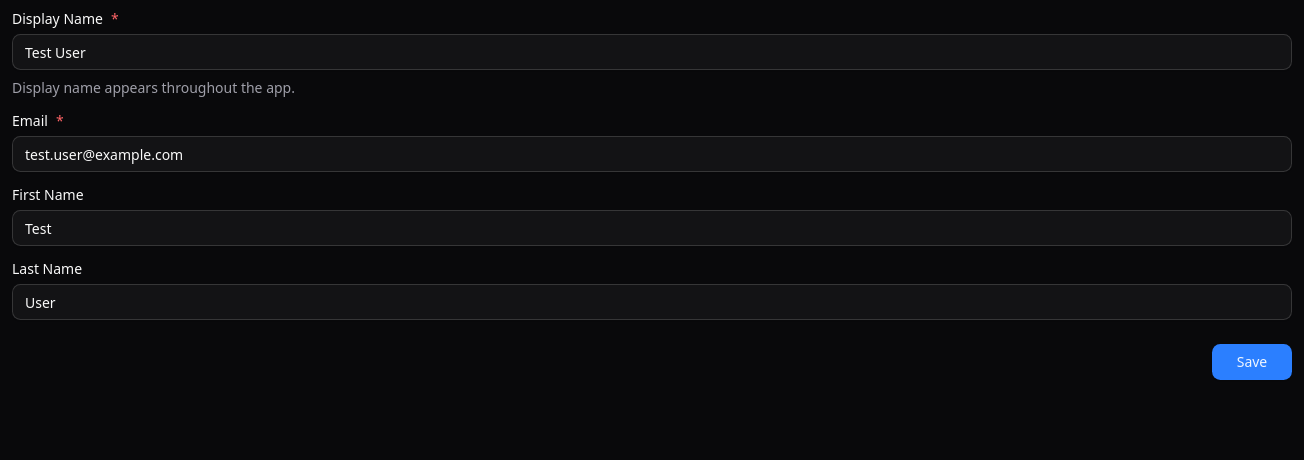
AccountForm › shows the server error message when saving fails
Replace the text in the field labelled "Display Name" with "Updated" at coordinates (652, 52), box [12,34,1292,70]
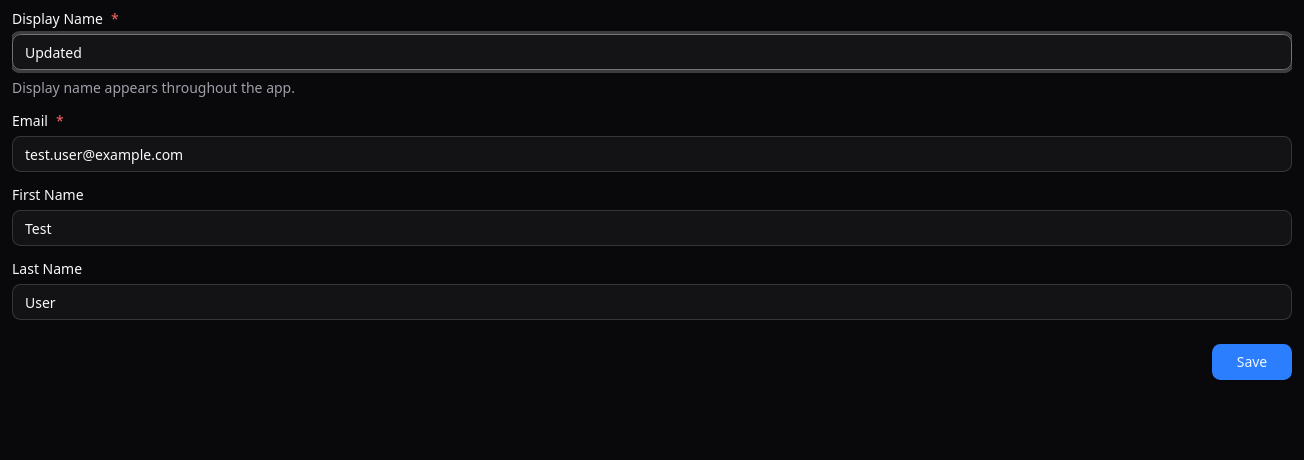
Click the button "Save".
click(1252, 362)  # box [1212,344,1292,380]
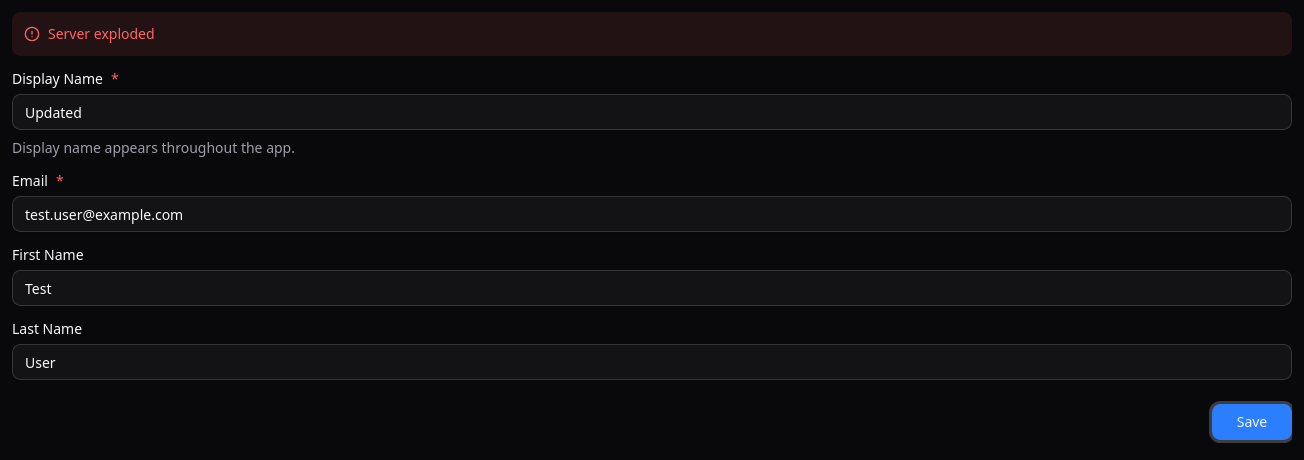
Check: the message reads "Server exploded", box [48,24,155,43]
